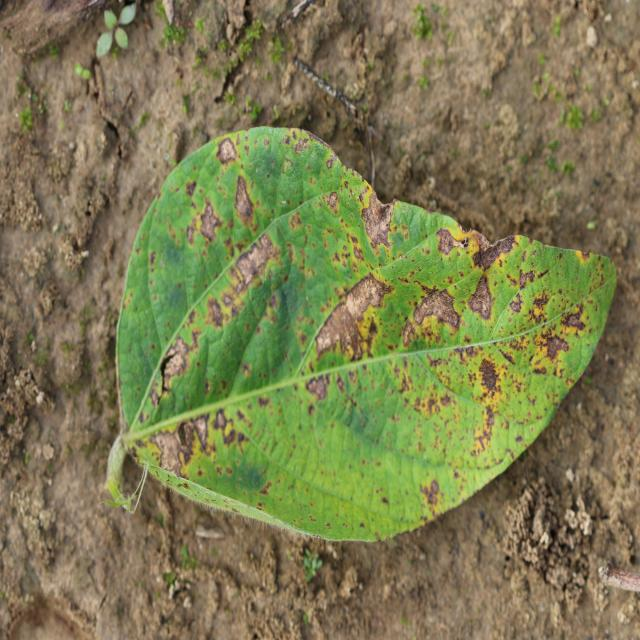Bacterial_Blight: (313, 283, 371, 365), (225, 173, 269, 238), (233, 232, 278, 290), (411, 288, 460, 335), (343, 275, 384, 330), (147, 426, 191, 477), (360, 194, 396, 249), (159, 333, 194, 384), (474, 235, 517, 273), (214, 409, 252, 452), (467, 278, 494, 320), (198, 198, 223, 242), (525, 290, 553, 329), (472, 409, 496, 453), (477, 357, 501, 396), (540, 333, 571, 362), (190, 414, 209, 450), (215, 136, 238, 164), (435, 227, 458, 255), (421, 479, 442, 509), (305, 375, 328, 402), (561, 308, 588, 331), (206, 297, 224, 328), (508, 291, 525, 315), (519, 269, 536, 289), (214, 409, 227, 429), (327, 191, 339, 209), (326, 153, 336, 169)
Soybean: (111, 127, 618, 546)
